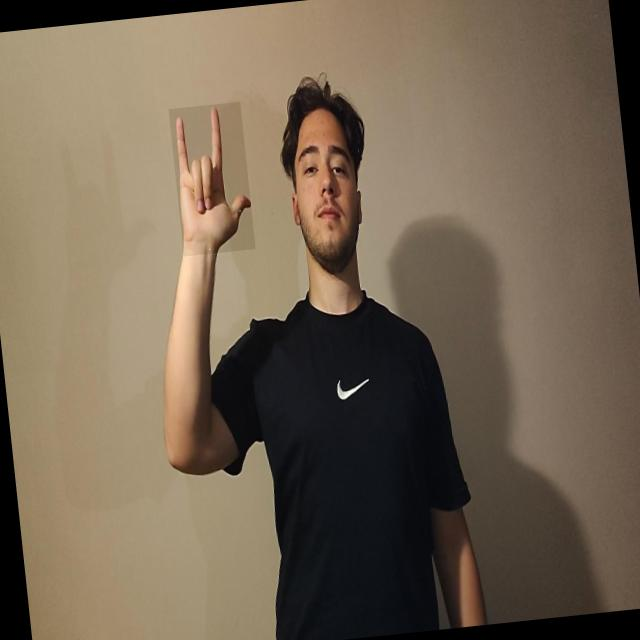iloveyou: (168, 101, 255, 256)
